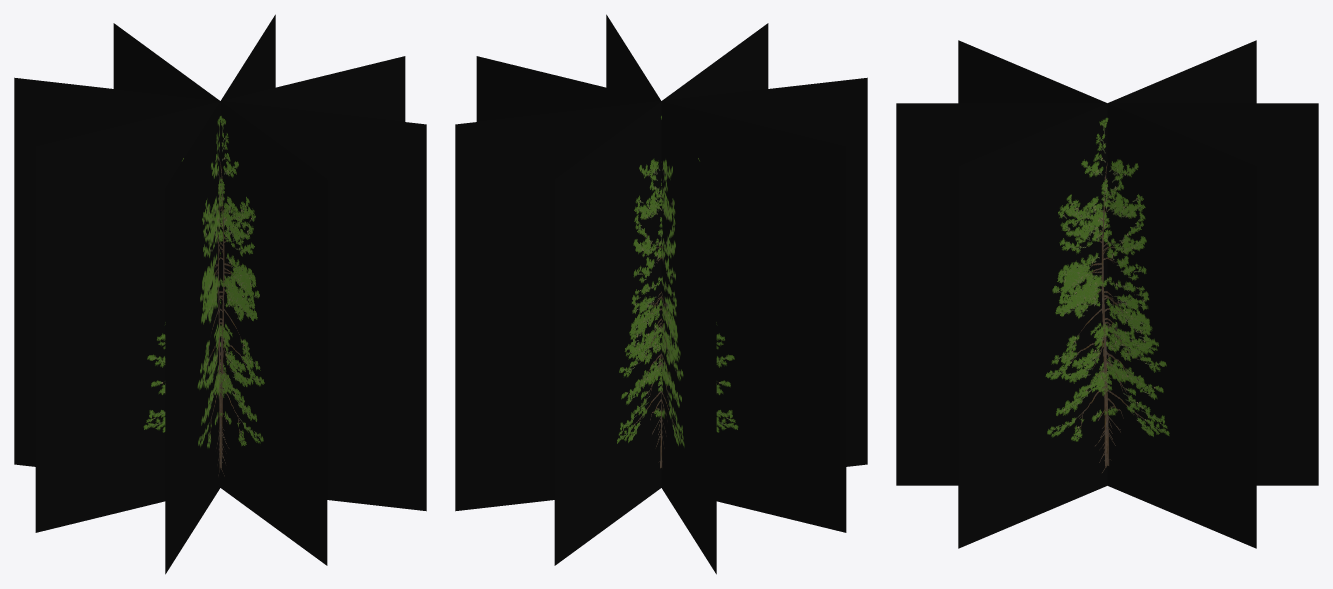
The model's file is pine_sapling_medium-lod1.glb.
The picture shows the model from 3 angles, left to right: view 1: azimuth 30°, elevation 25°; view 2: azimuth 150°, elevation 25°; view 3: azimuth 270°, elevation 25°; orthographic projection.
Bounding box in the file's own units: 5.39 × 5.39 × 5.39.
Materials: 1 (1 with a texture image).
